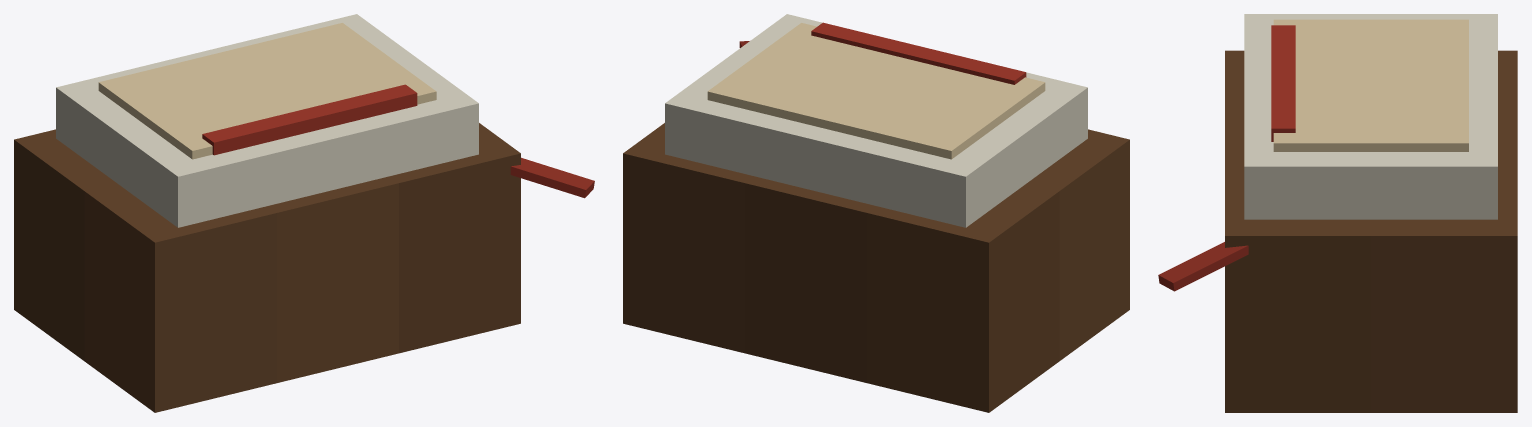
File: kit_clue_manifest.glb
3 views of the same model, side by side, from view 1: azimuth 30°, elevation 25°; view 2: azimuth 150°, elevation 25°; view 3: azimuth 270°, elevation 25° (orthographic). The views are drawn at different scales.
Visible parts, largest first — view 1: clue_manifest; view 2: clue_manifest; view 3: clue_manifest.
Part boxes in pixels (box(x1,y1,x2,y2)): clue_manifest: box(14, 14, 594, 412); clue_manifest: box(623, 14, 1129, 412); clue_manifest: box(1158, 14, 1517, 412).
Bounding box in the file's own units: 3.06 × 1.65 × 2.21.
